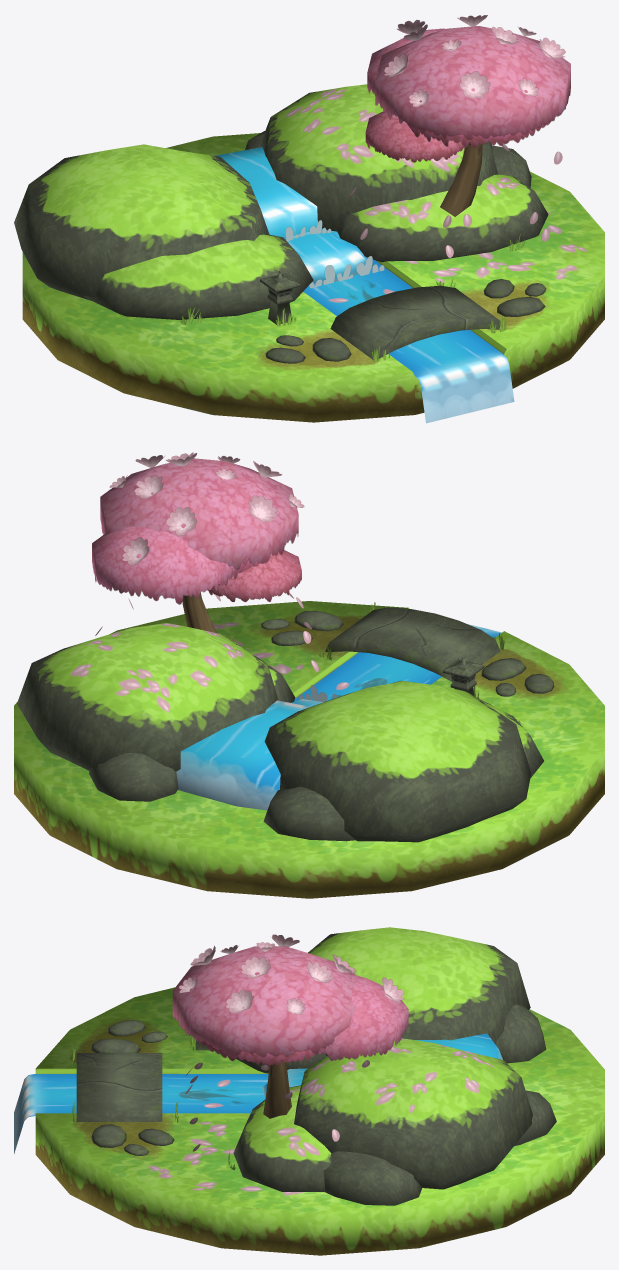
3 renders of one model, top to bottom at view 1: azimuth 30°, elevation 25°; view 2: azimuth 150°, elevation 25°; view 3: azimuth 270°, elevation 25°, orthographic. The views are drawn at different scales.
Visible parts, largest first — view 1: lower rock 2, GeoSphere003; view 2: lower rock 2, GeoSphere003; view 3: lower rock 2, GeoSphere003.
Part boxes in pixels (box(x1,y1,x2,y2)): lower rock 2: box(14, 84, 604, 423); GeoSphere003: box(180, 15, 570, 361); lower rock 2: box(14, 592, 604, 898); GeoSphere003: box(92, 452, 520, 723); lower rock 2: box(14, 927, 604, 1255); GeoSphere003: box(72, 934, 408, 1170).
Size of the model in its own units: 600 by 285 by 613.
2 materials, 2 textured.
